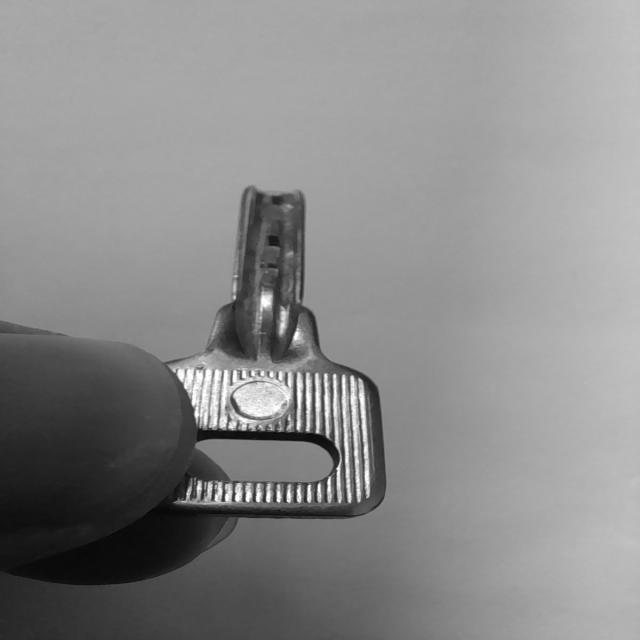key: (163, 186, 386, 519)
